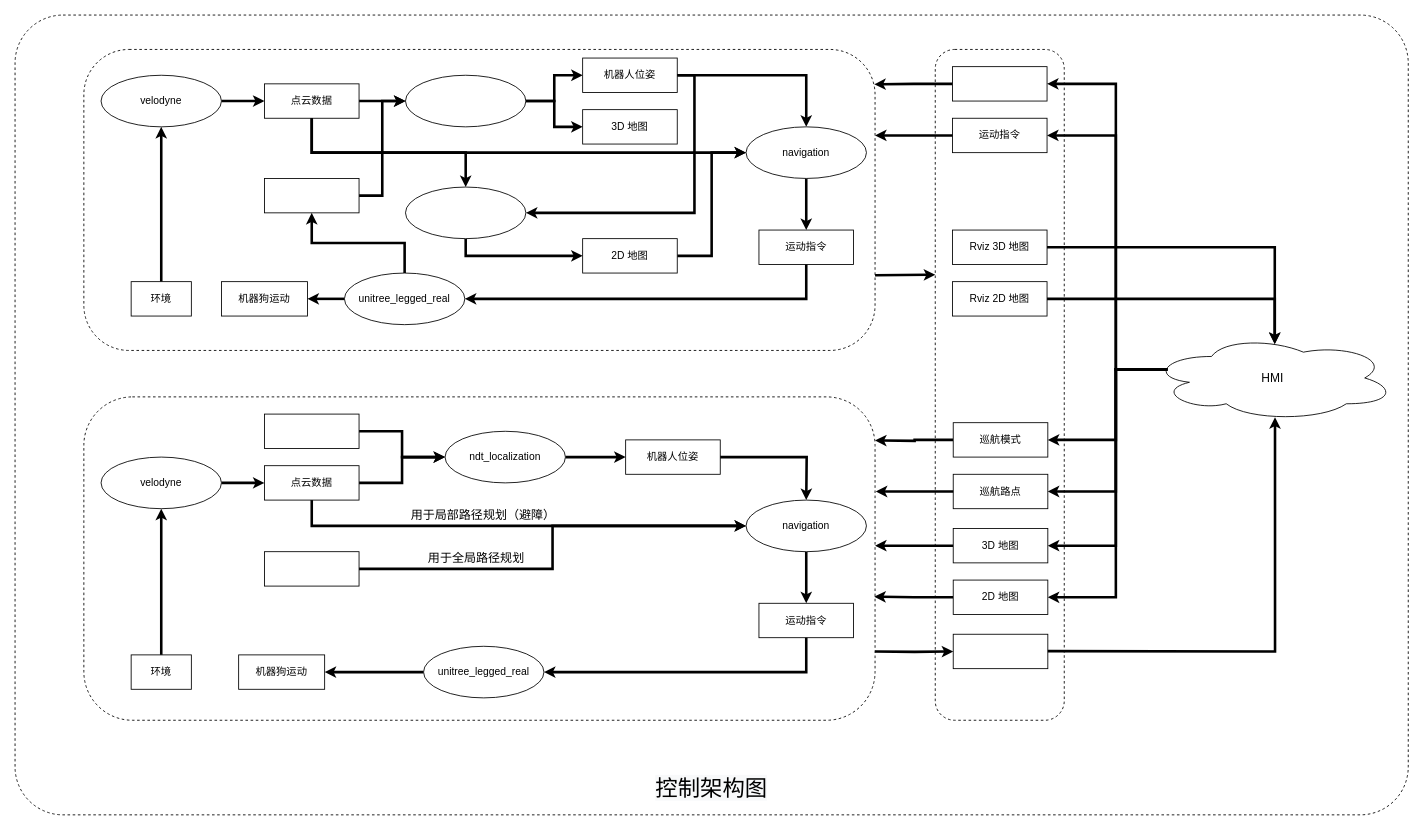
The diagram is 1423 pixels wide and 830 high, and some of its shapes have lost their labels. Each missing label, with the box of its shape:
building_map: (83, 49, 875, 350)
gmapping: (405, 186, 526, 239)
HAL: (934, 49, 1064, 720)
IMU数据: (264, 178, 359, 213)
lio-sam: (405, 74, 526, 127)
patrol: (83, 396, 875, 720)
地图定位: (952, 633, 1048, 669)
已建立 2D地图: (264, 551, 359, 586)
已建立的 3D地图: (264, 413, 359, 448)
建图模式: (952, 66, 1047, 101)
